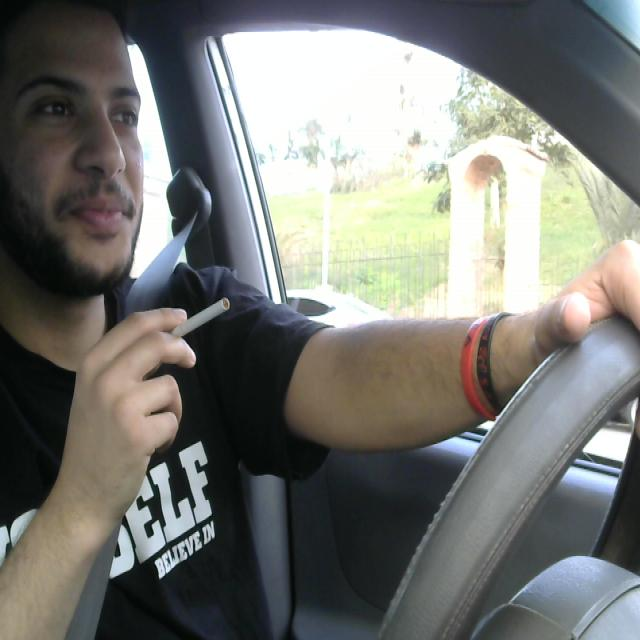smoking: (150, 292, 228, 343)
